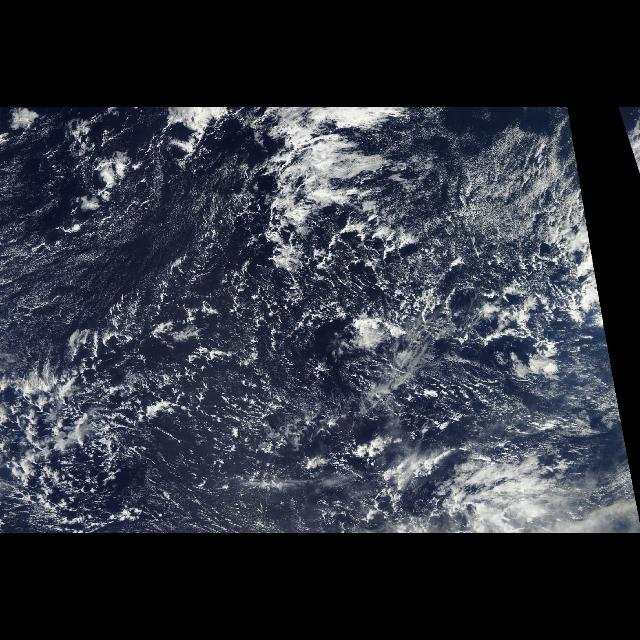Gravel: (2, 205, 548, 533)
Sugar: (3, 115, 205, 329), (406, 113, 568, 285)
